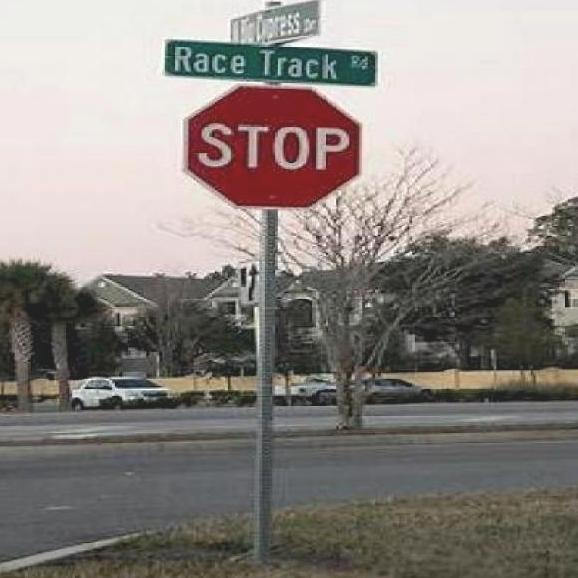stop_sign: (186, 87, 361, 212)
